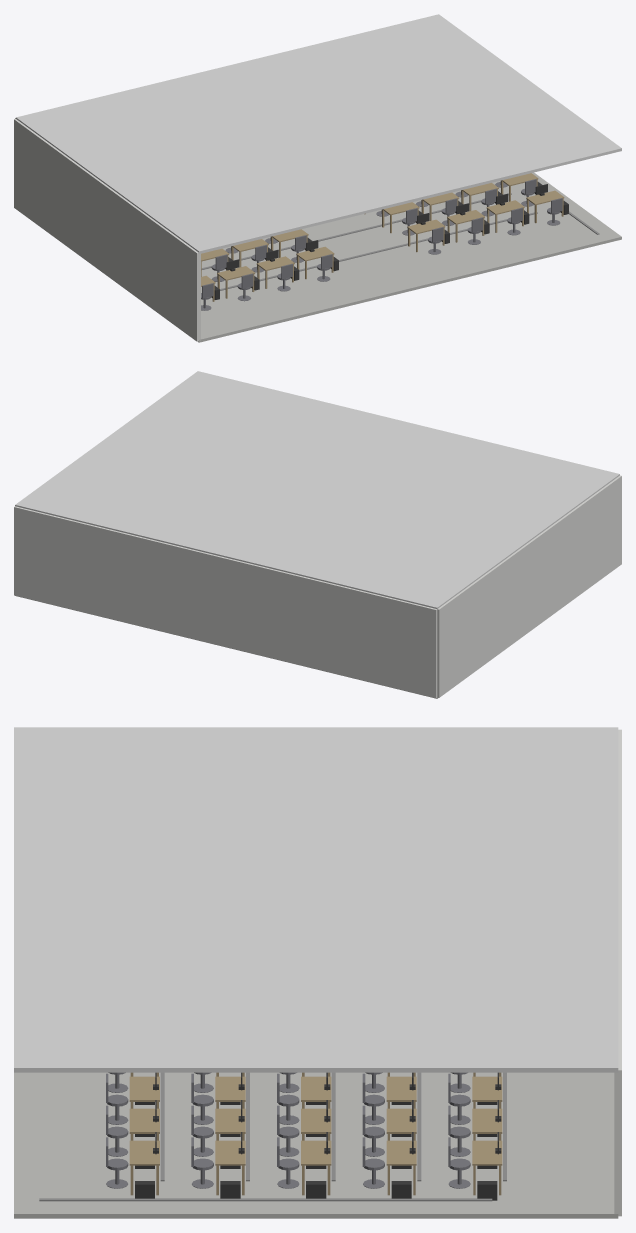
File: coloured_lab.glb
3 views of the same model, one above another, from view 1: azimuth 30°, elevation 25°; view 2: azimuth 150°, elevation 25°; view 3: azimuth 270°, elevation 25° (orthographic). The views are drawn at different scales.
Visible parts, largest first — view 1: Ceiling, Floor, Wall_Left, Cable_Tray_Row_4; view 2: Ceiling, Wall_Front, Wall_Left; view 3: Ceiling, Floor, Wall_Front, Cable_Trunk, Desk_40, Desk_24, Desk_32, Desk_8, Desk_16, Desk_38, Desk_39, Desk_30 (+7 smaller).
Part boxes in pixels (x1,y1,x2,y2): Ceiling: (16, 14, 621, 253); Floor: (198, 172, 621, 342); Wall_Left: (14, 119, 200, 341); Cable_Tray_Row_4: (220, 212, 537, 290); Ceiling: (15, 371, 619, 608); Wall_Front: (14, 506, 437, 698); Wall_Left: (437, 475, 621, 697); Ceiling: (14, 727, 618, 1072); Floor: (14, 1072, 618, 1218); Wall_Front: (614, 729, 621, 1216); Cable_Trunk: (39, 1198, 492, 1201); Desk_40: (129, 1140, 159, 1195); Desk_24: (301, 1140, 331, 1195); Desk_32: (215, 1140, 245, 1195); Desk_8: (472, 1140, 502, 1195); Desk_16: (386, 1140, 416, 1195); Desk_38: (129, 1076, 159, 1108); Desk_39: (129, 1108, 159, 1140); Desk_30: (215, 1076, 245, 1108).
Size of the model in its own units: 16.08 by 3.3 by 12.08.
